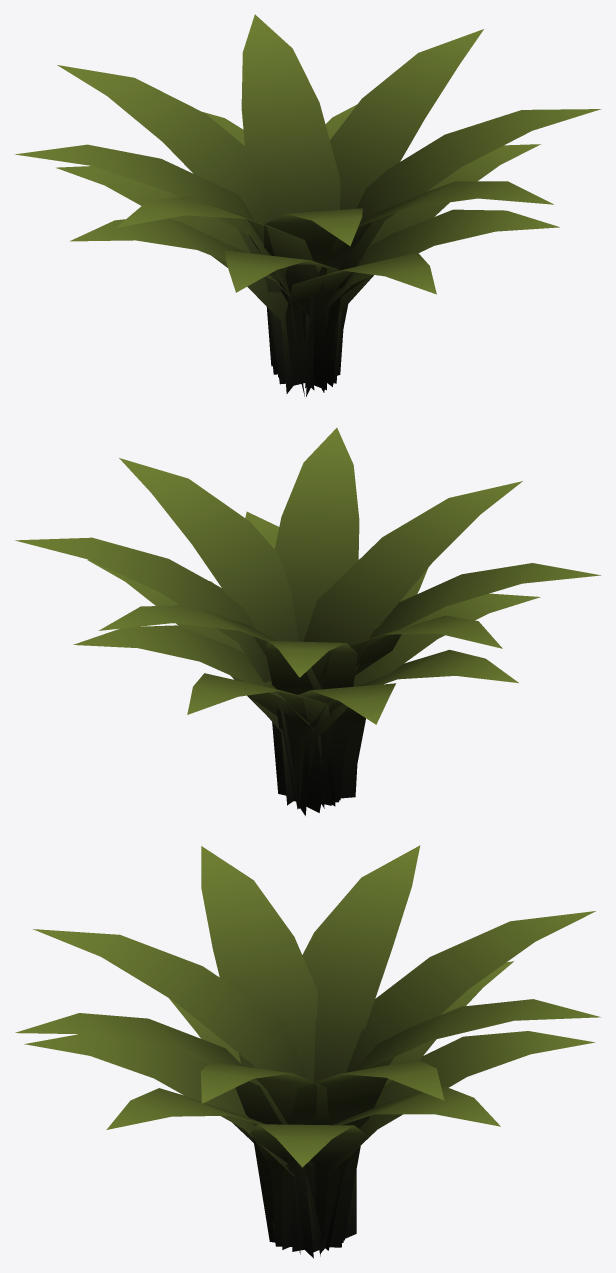
Rendered from Grass_001.fbx.
3 renders of one model, top to bottom at view 1: azimuth 30°, elevation 25°; view 2: azimuth 150°, elevation 25°; view 3: azimuth 270°, elevation 25°, orthographic. The views are drawn at different scales.
Visible parts, largest first — view 1: group27; view 2: group27; view 3: group27.
Boxes of the visible parts, bbox=[...] form: group27: bbox=[14, 14, 601, 396]; group27: bbox=[15, 428, 600, 815]; group27: bbox=[15, 845, 600, 1258].
Bounding box in the file's own units: 78.73 × 38.17 × 75.59.
